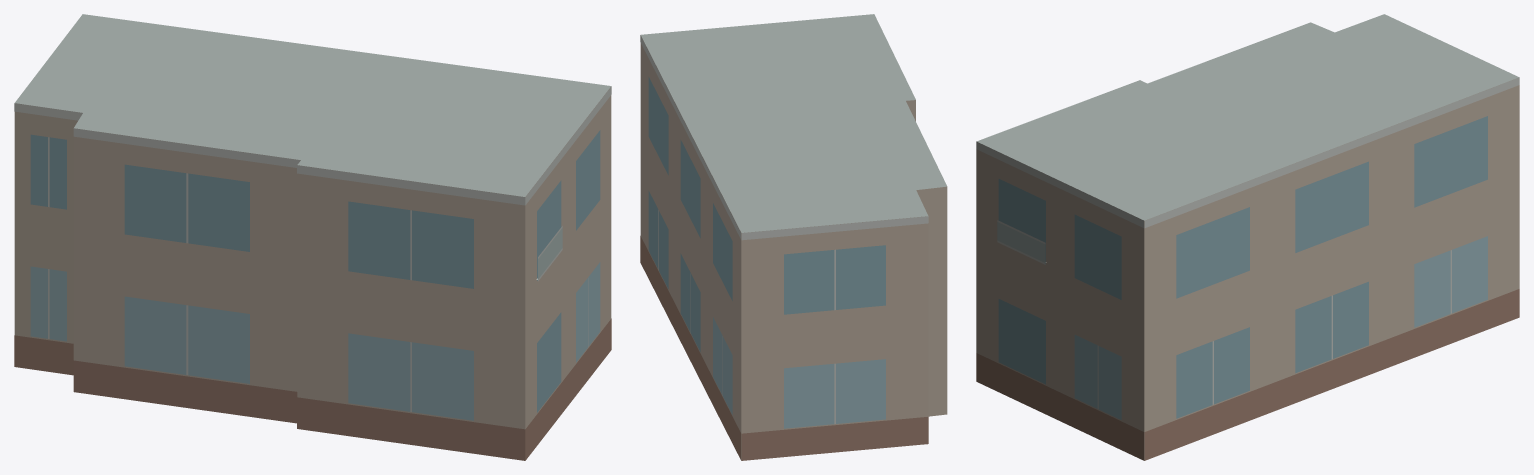
The model's file is survey-upis-32688916.glb.
3 renders of one model, left to right at view 1: azimuth 30°, elevation 25°; view 2: azimuth 150°, elevation 25°; view 3: azimuth 270°, elevation 25°, orthographic. The views are drawn at different scales.
Visible parts, largest first — view 1: survey-upis-32688916.tmp; view 2: survey-upis-32688916.tmp; view 3: survey-upis-32688916.tmp.
Boxes of the visible parts, left/top/right/bottom form: survey-upis-32688916.tmp: left=14, top=14, right=611, bottom=460; survey-upis-32688916.tmp: left=640, top=14, right=947, bottom=460; survey-upis-32688916.tmp: left=976, top=14, right=1519, bottom=460.
Bounding box in the file's own units: 14.04 × 7.6 × 15.58.
